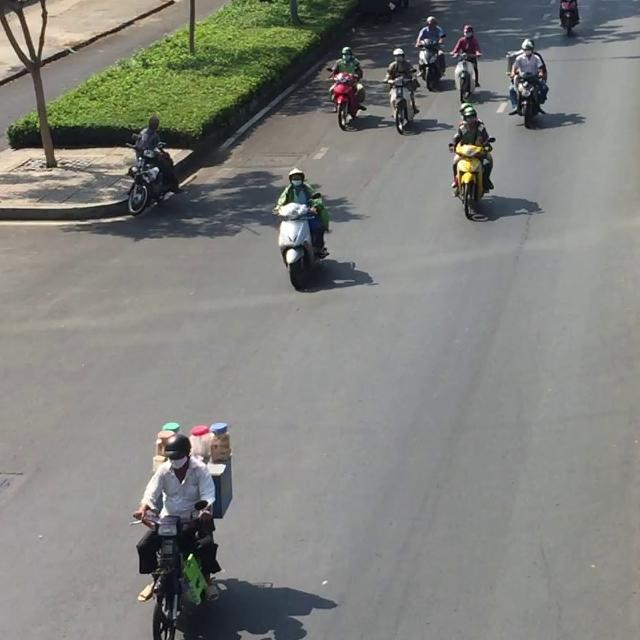Motorcycle: (129, 500, 221, 639), (272, 198, 325, 289), (124, 131, 179, 216), (448, 136, 495, 221), (326, 67, 366, 131), (507, 70, 547, 129), (384, 72, 420, 134), (449, 51, 481, 103), (414, 40, 446, 91), (558, 0, 580, 35)
